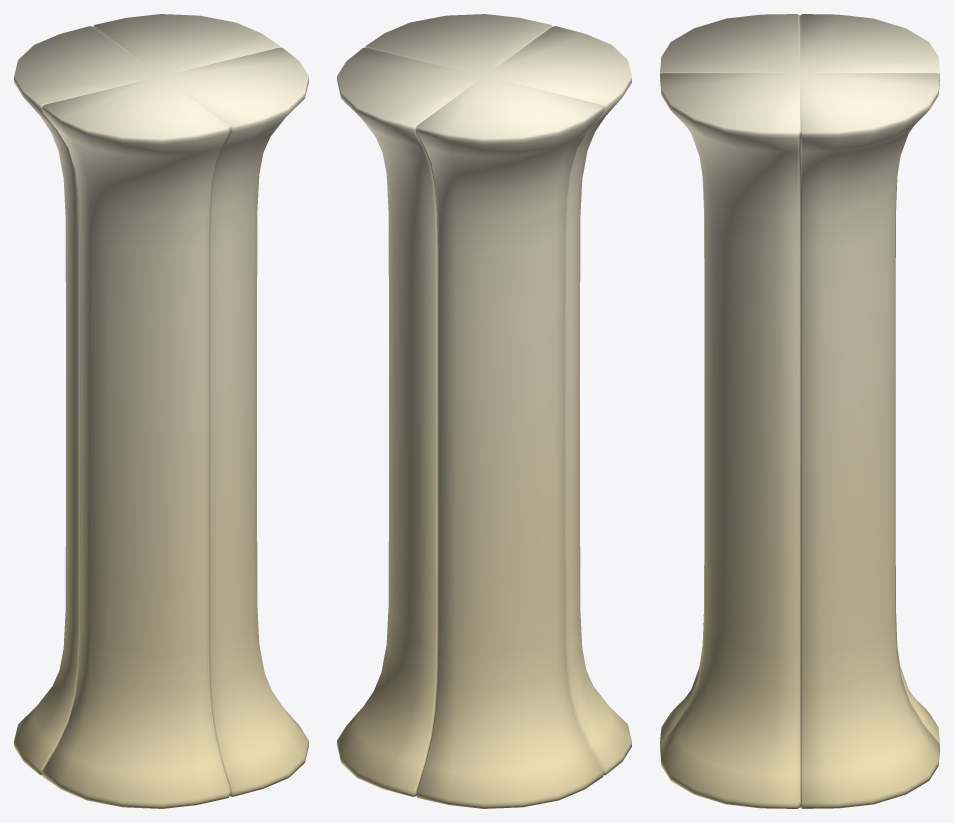
The model's file is sm_futuristic_pillar_5m.fbx.
The picture shows the model from 3 angles, left to right: view 1: azimuth 30°, elevation 25°; view 2: azimuth 150°, elevation 25°; view 3: azimuth 270°, elevation 25°; orthographic projection.
Parts seen in each view (by area): view 1: sm_futuristic_pillar_5m; view 2: sm_futuristic_pillar_5m; view 3: sm_futuristic_pillar_5m.
Boxes of the visible parts, x1,y1,x2,y2 form: sm_futuristic_pillar_5m: (14, 14, 308, 808); sm_futuristic_pillar_5m: (337, 14, 631, 808); sm_futuristic_pillar_5m: (660, 14, 939, 808).
Bounding box in the file's own units: 150 × 150 × 400.
